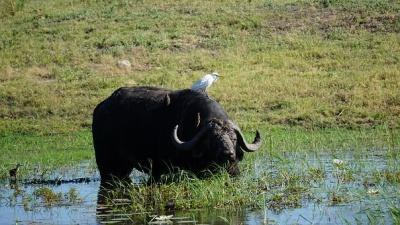buffalo: (91, 73, 263, 189)
